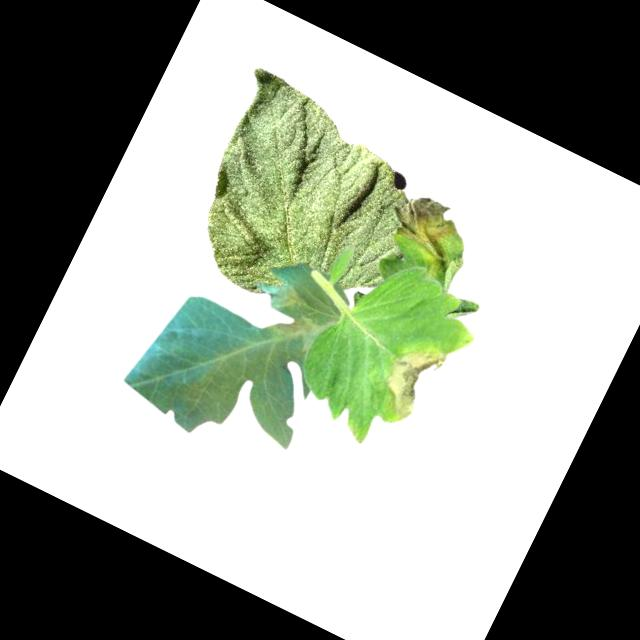Late_blight: (371, 335, 451, 426), (387, 187, 468, 265), (266, 301, 325, 353)
healthy: (166, 65, 447, 344)
